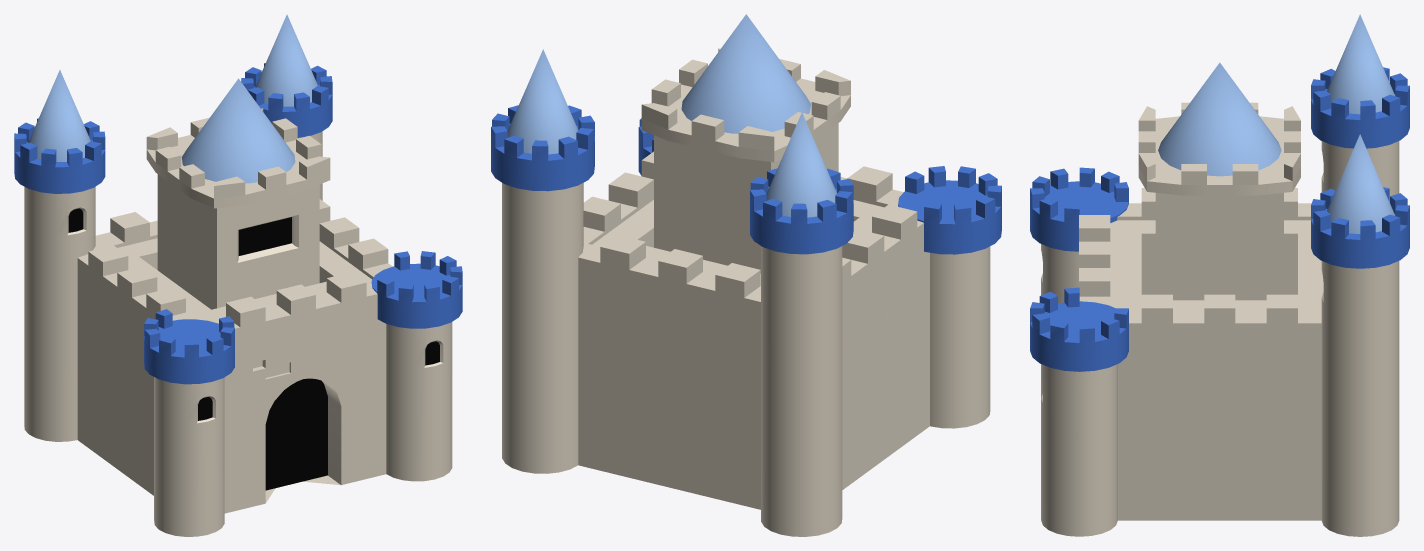
File: Castle.fbx
3 renders of one model, left to right at view 1: azimuth 30°, elevation 25°; view 2: azimuth 150°, elevation 25°; view 3: azimuth 270°, elevation 25°, orthographic. The views are drawn at different scales.
Visible parts, largest first — view 1: castle; view 2: castle; view 3: castle.
Part boxes in pixels (x1,y1,x2,y2): castle: [14, 14, 462, 536]; castle: [491, 14, 1001, 536]; castle: [1030, 14, 1409, 536].
Bounding box in the file's own units: 8.34 × 9.56 × 8.27.
